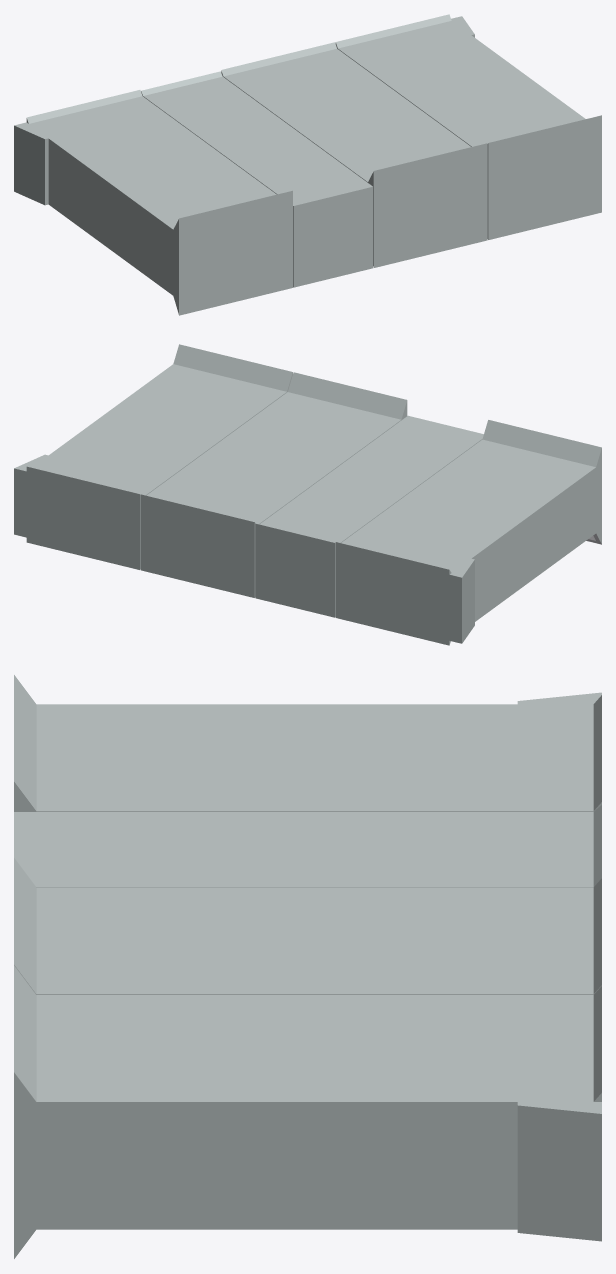
3 views of the same model, one above another, from view 1: azimuth 30°, elevation 25°; view 2: azimuth 150°, elevation 25°; view 3: azimuth 270°, elevation 25° (orthographic). The views are drawn at different scales.
Parts seen in each view (by area): view 1: Box017; view 2: Box017; view 3: Box017.
Boxes of the visible parts, bbox=[...] form: Box017: bbox=[14, 14, 601, 315]; Box017: bbox=[14, 344, 601, 645]; Box017: bbox=[14, 675, 601, 1258].
Size of the model in its own units: 3.55 by 0.7353 by 2.09.
Materials: 5 (4 with a texture image).
